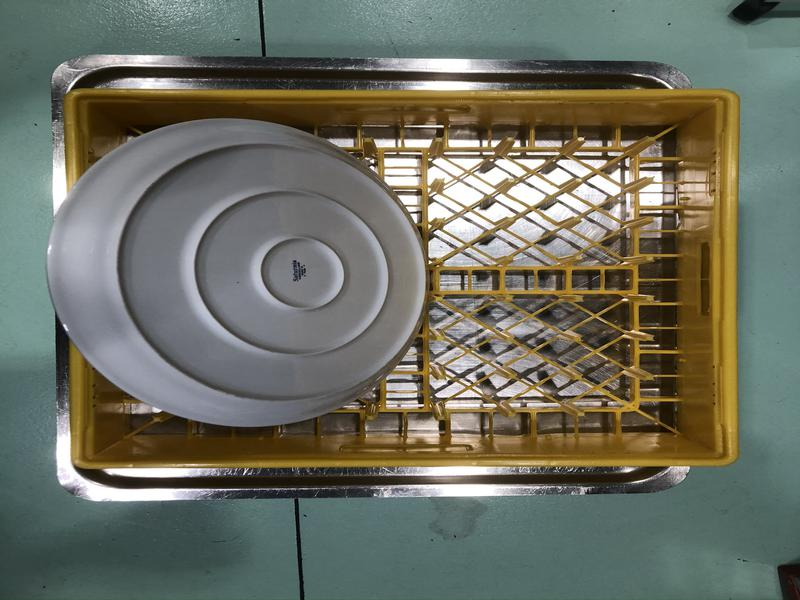Inclined_dish: (48, 116, 424, 429)
